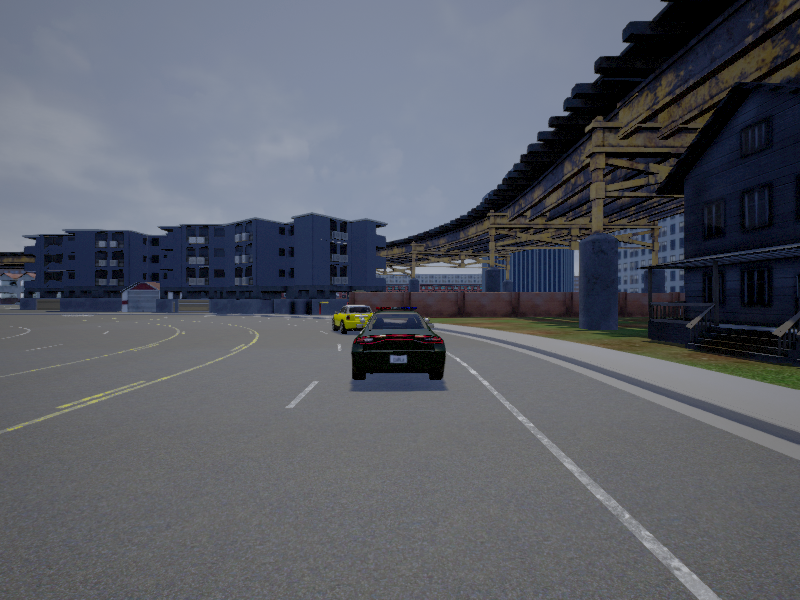Benign: (351, 307, 446, 382), (332, 304, 376, 334)
